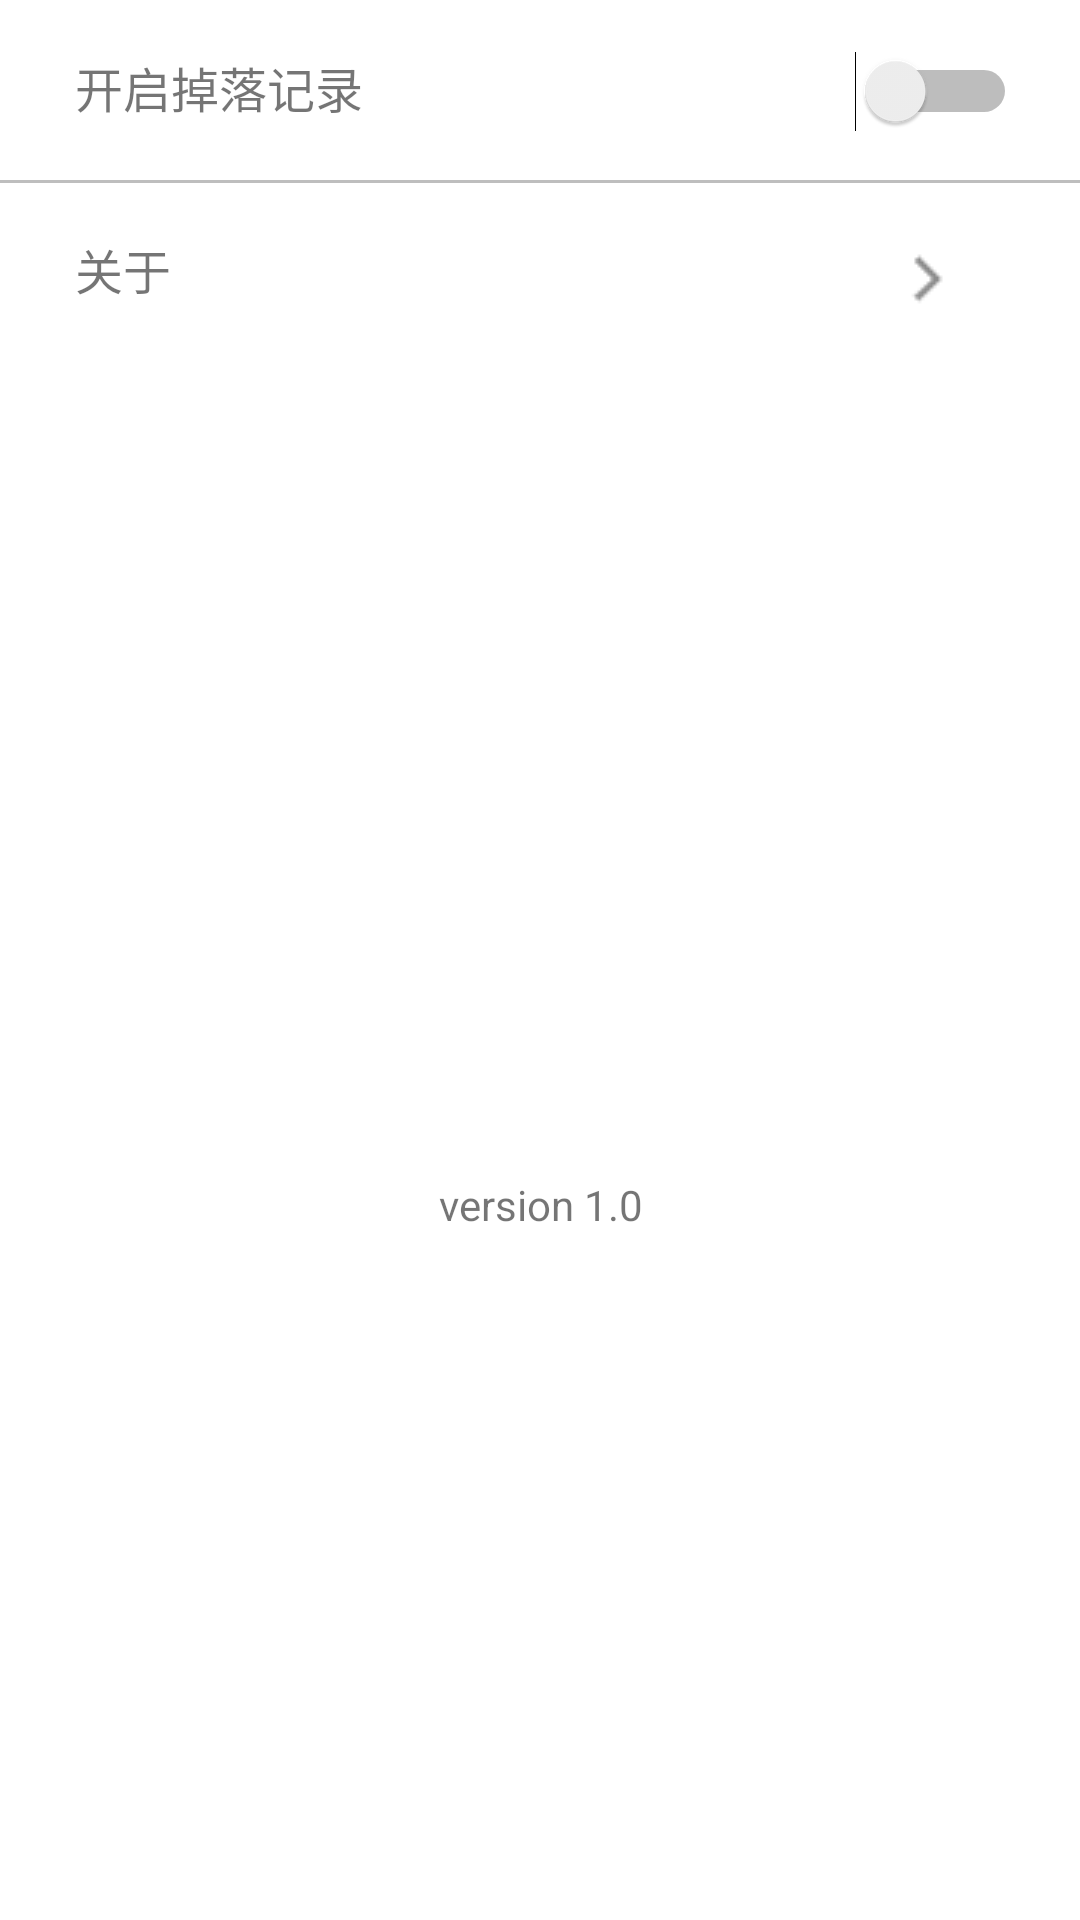

Screen size 1080 × 1920. Icon name, then its center in pixels as (x,y):
todetail: (928,278)
